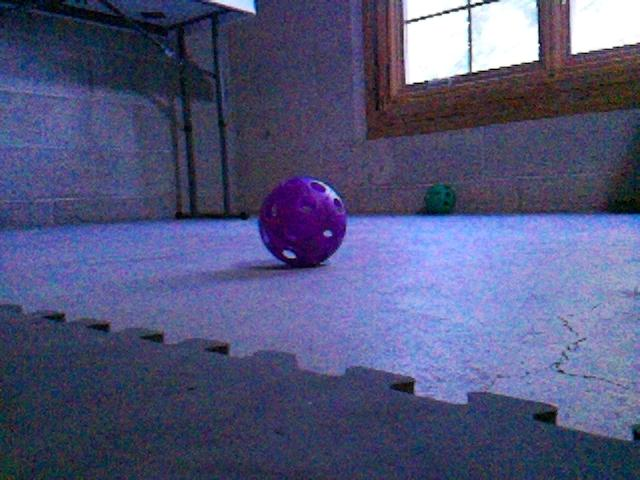Green: (424, 184, 456, 214)
Purple: (256, 176, 348, 269)
